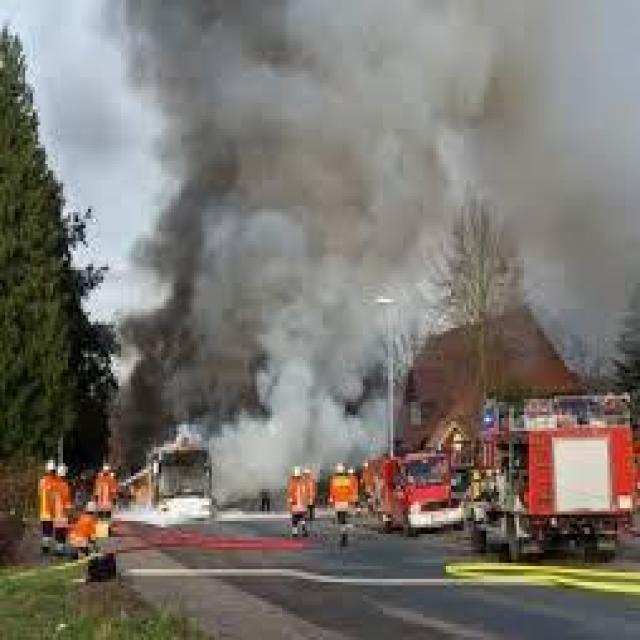smoke: (84, 1, 467, 485)
